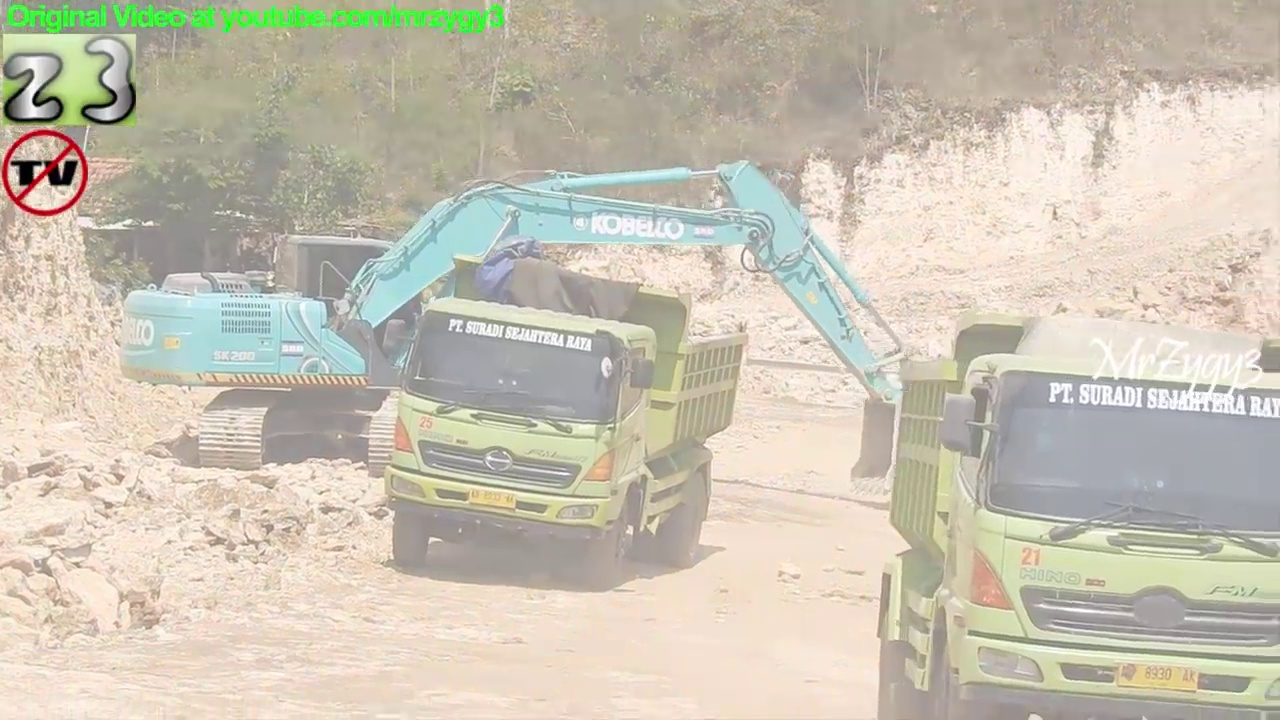excavator: (112, 151, 971, 495)
truck: (869, 307, 1280, 720), (372, 248, 754, 590)
